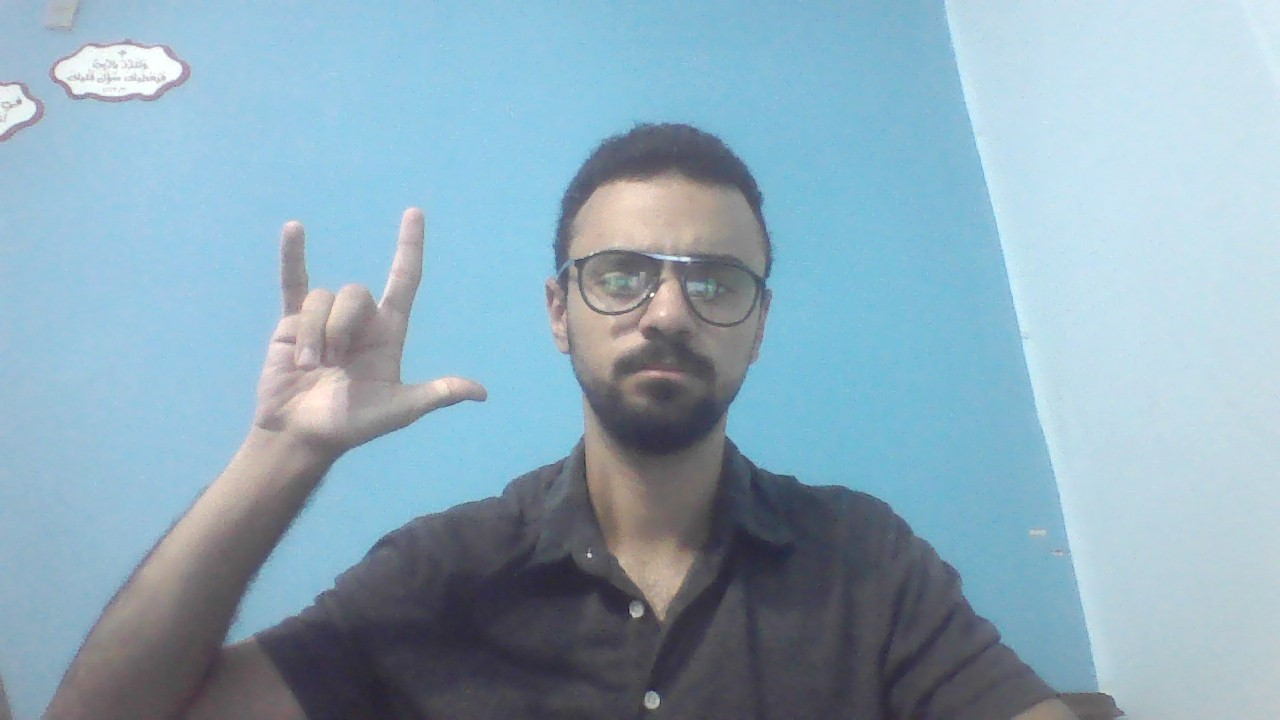love: (244, 204, 492, 441)
